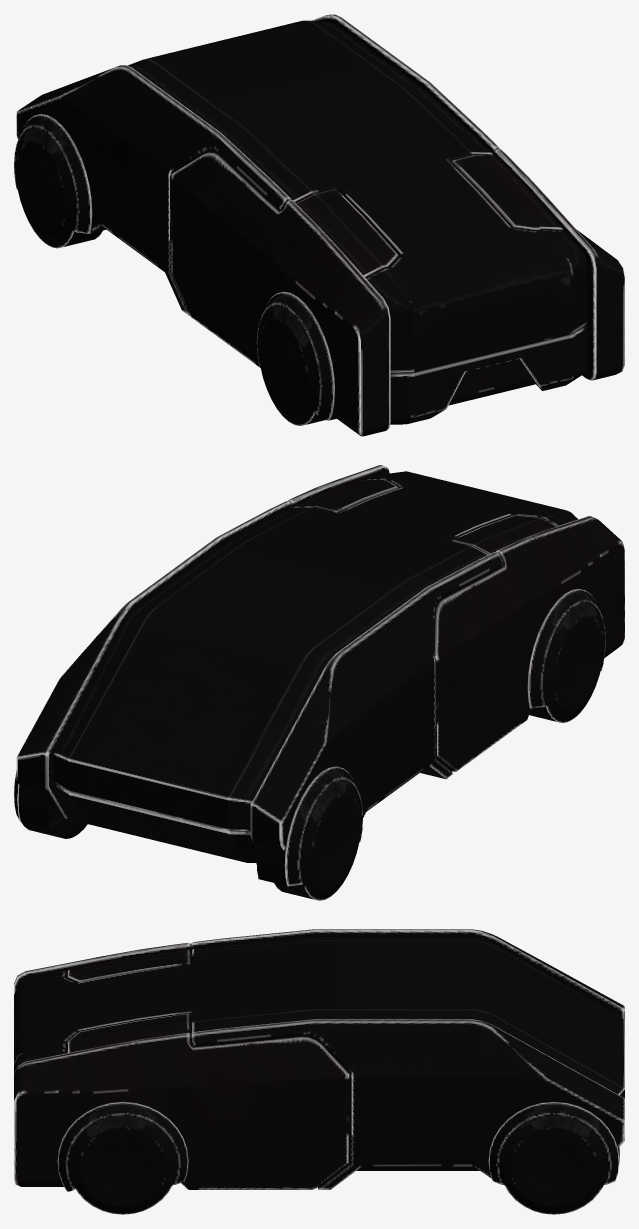
File: propHammerCar.glb
The picture shows the model from 3 angles, top to bottom: view 1: azimuth 30°, elevation 25°; view 2: azimuth 150°, elevation 25°; view 3: azimuth 270°, elevation 25°; orthographic projection. The views are drawn at different scales.
Visible parts, largest first — view 1: propHammerCar; view 2: propHammerCar; view 3: propHammerCar.
Boxes of the visible parts, x1=… form: propHammerCar: x1=14, y1=14, x2=624, y2=436; propHammerCar: x1=14, y1=465, x2=624, y2=900; propHammerCar: x1=14, y1=929, x2=624, y2=1214.
Bounding box in the file's own units: 2.78 × 1.8 × 5.6.
Materials: 1 (1 with a texture image).
